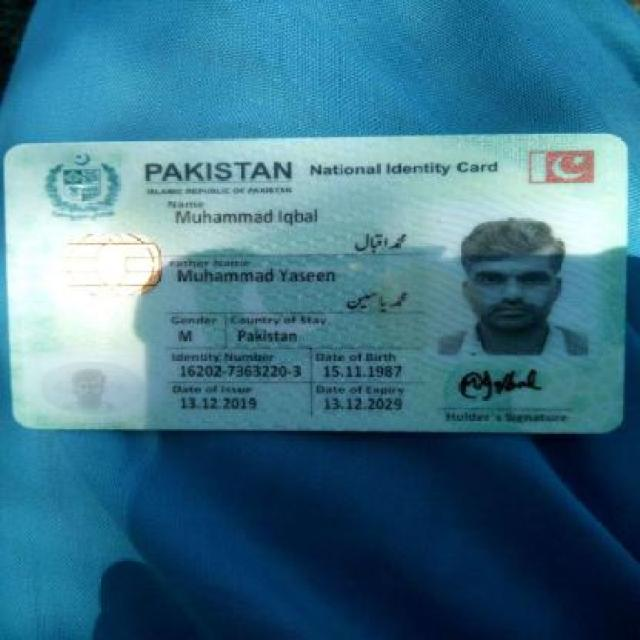Front: (3, 136, 629, 432)
